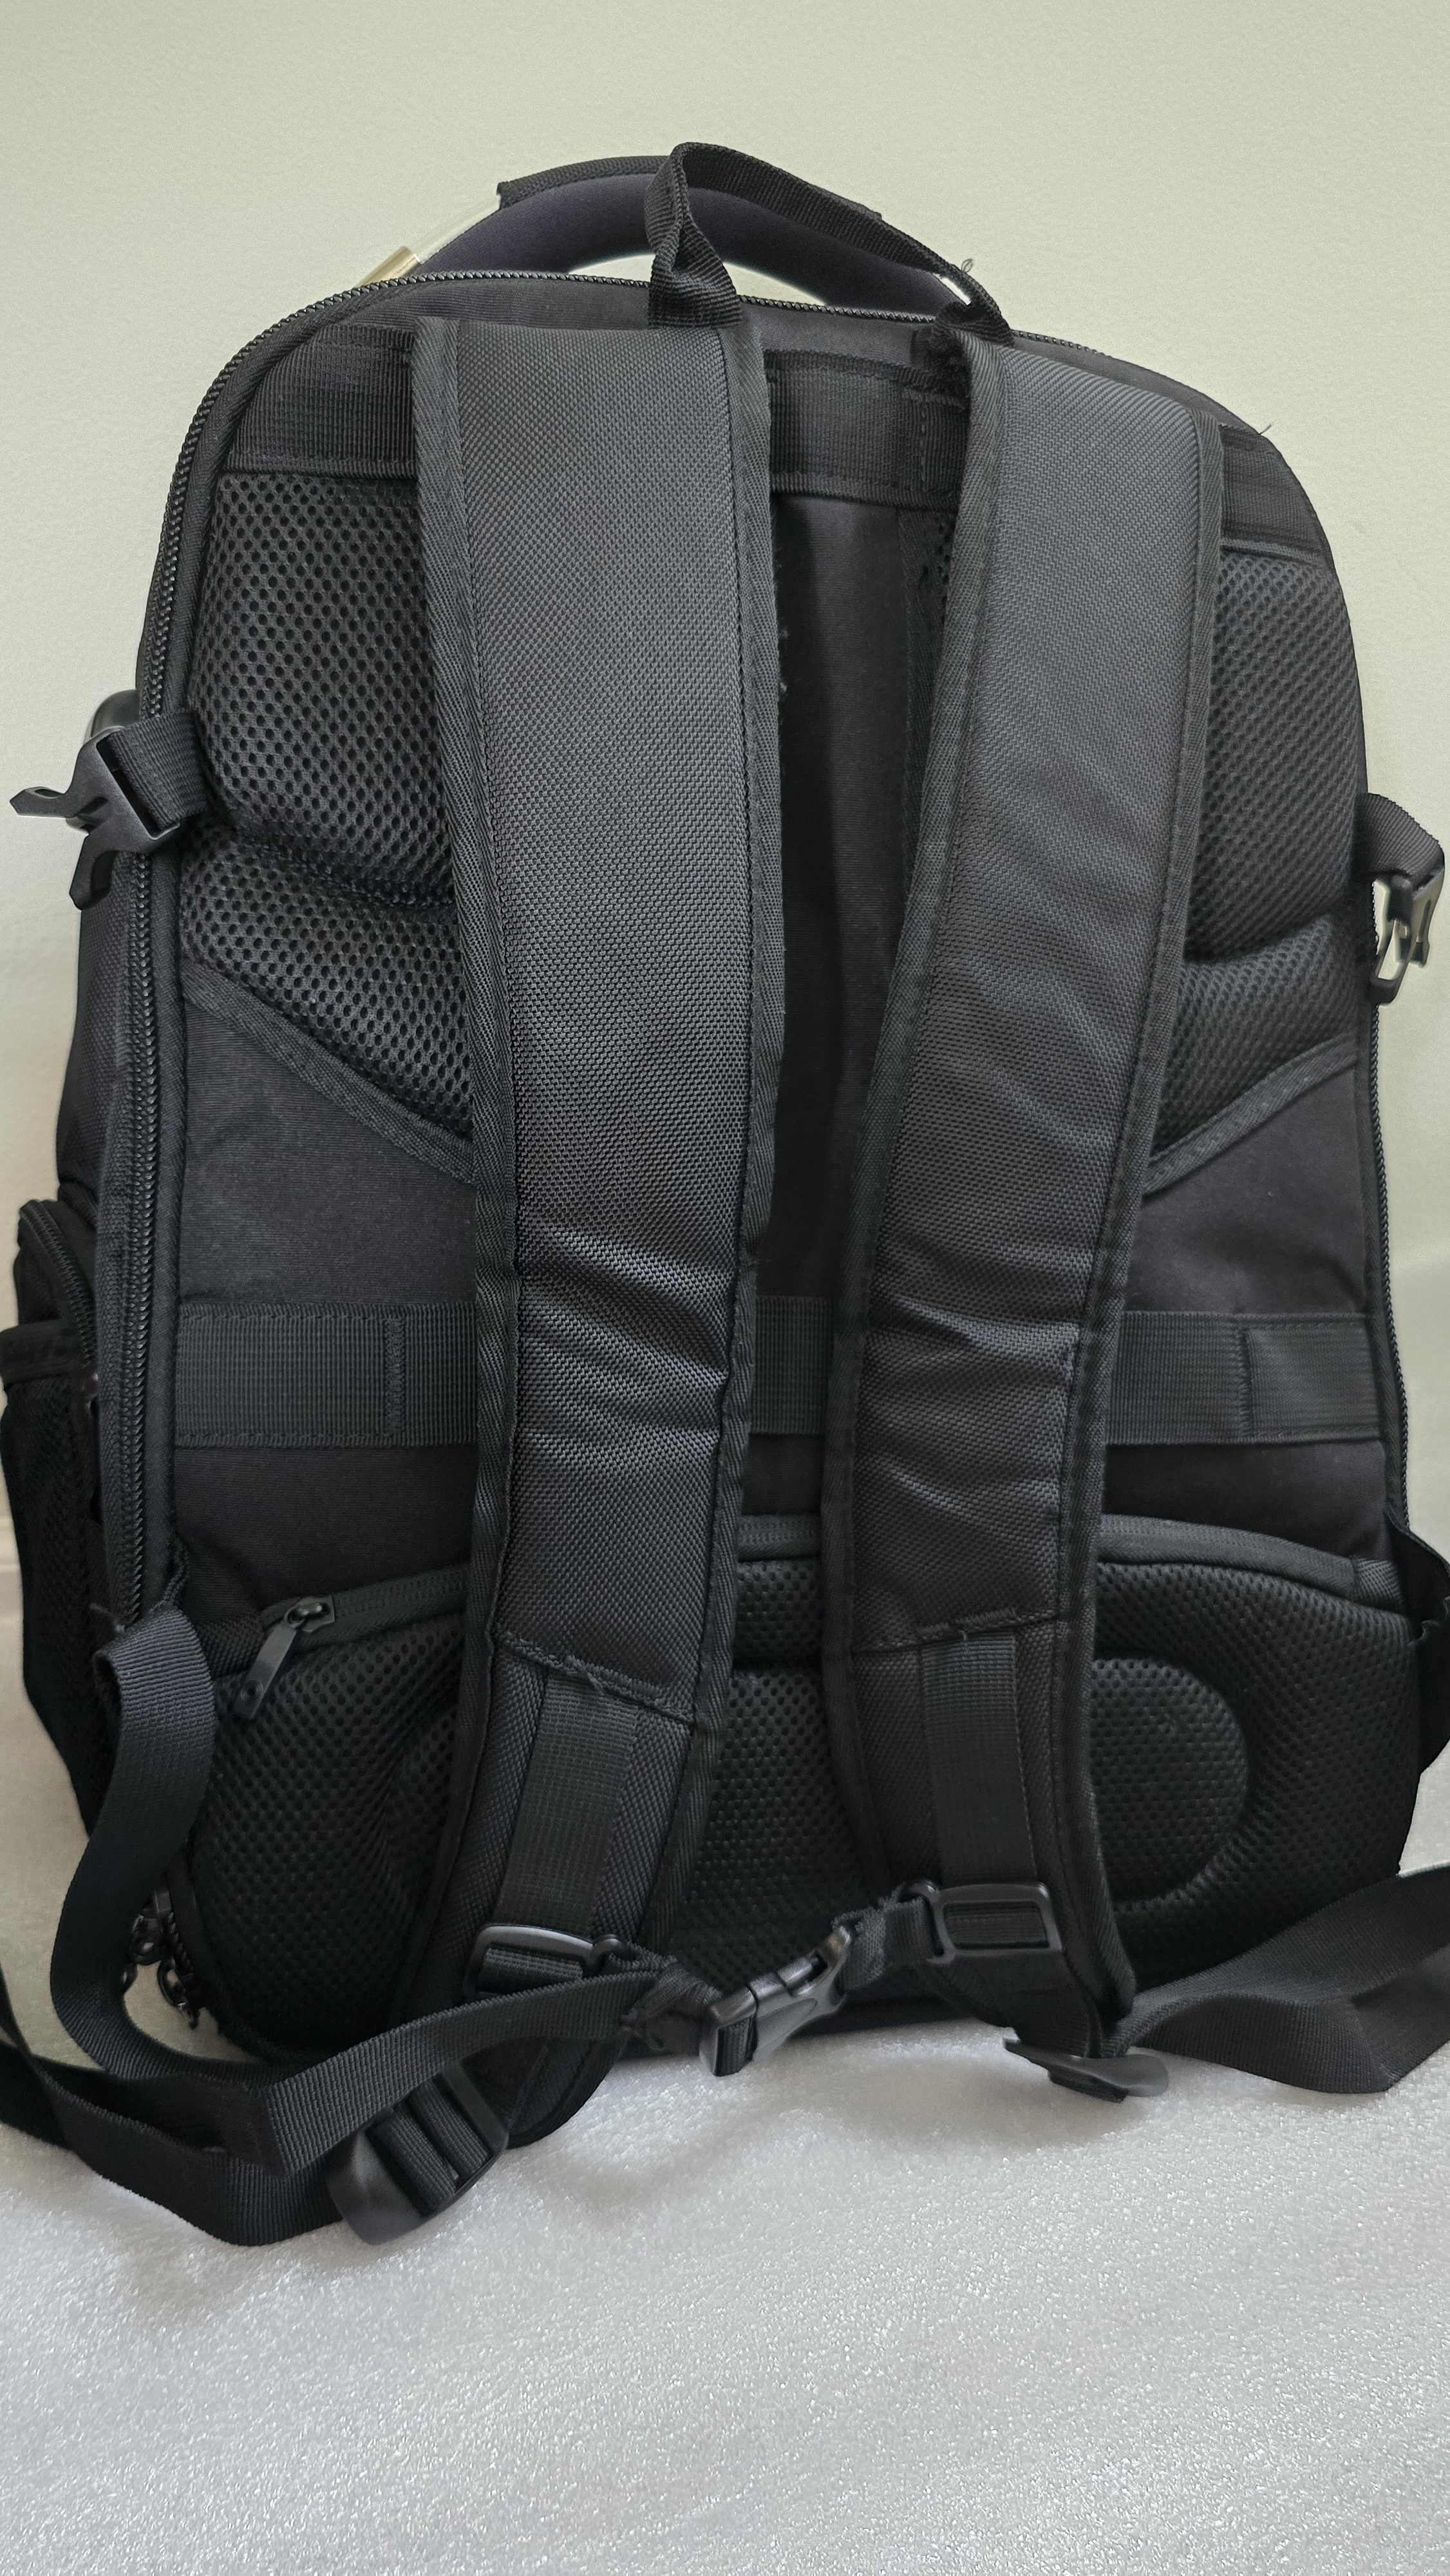bag: (81, 67, 1450, 2151)
